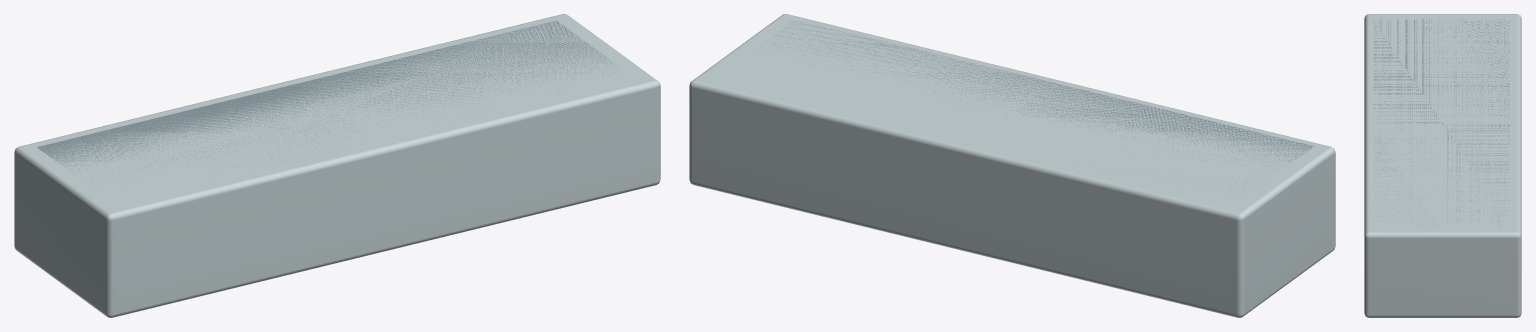
Rendered from stairs.step.glb.
3 views of the same model, side by side, from view 1: azimuth 30°, elevation 25°; view 2: azimuth 150°, elevation 25°; view 3: azimuth 270°, elevation 25° (orthographic). The views are drawn at different scales.
Visible parts, largest first — view 1: riser, tread; view 2: riser, tread; view 3: riser, tread.
Boxes of the visible parts, x1=… form: riser: x1=14, y1=14, x2=660, y2=317; tread: x1=37, y1=20, x2=618, y2=192; riser: x1=689, y1=14, x2=1335, y2=317; tread: x1=766, y1=21, x2=1313, y2=186; riser: x1=1364, y1=14, x2=1521, y2=317; tread: x1=1373, y1=19, x2=1509, y2=226.
Size of the model in its own units: 1 by 0.18 by 0.3.
